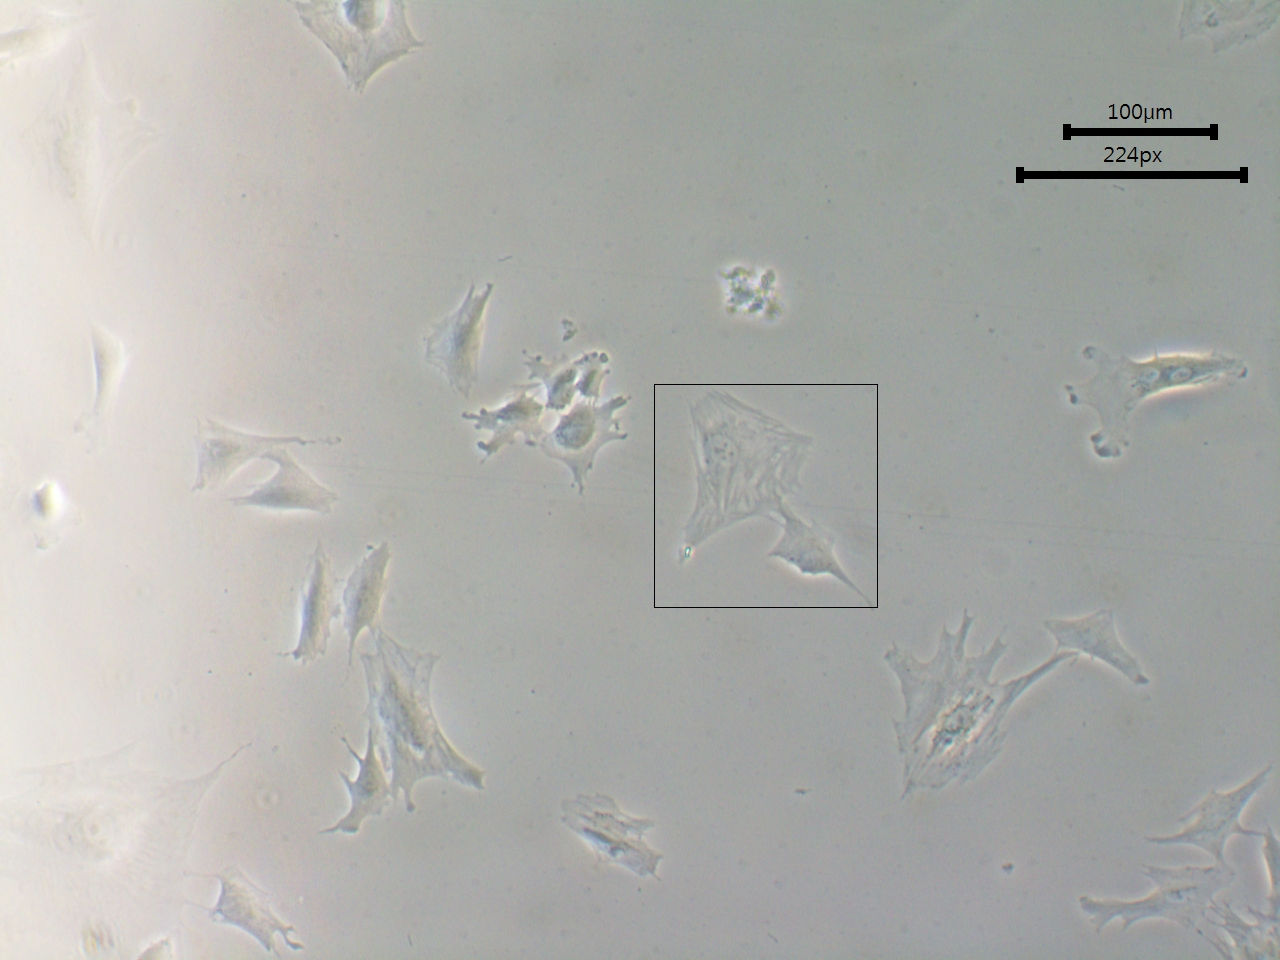dividing: (1060, 336, 1251, 473)
medium-polygonal: (424, 281, 497, 393)
small-polygonal: (1038, 609, 1144, 687), (249, 459, 339, 521), (292, 548, 339, 663), (342, 541, 393, 642)
small-spread: (545, 399, 629, 493), (205, 867, 288, 959)
